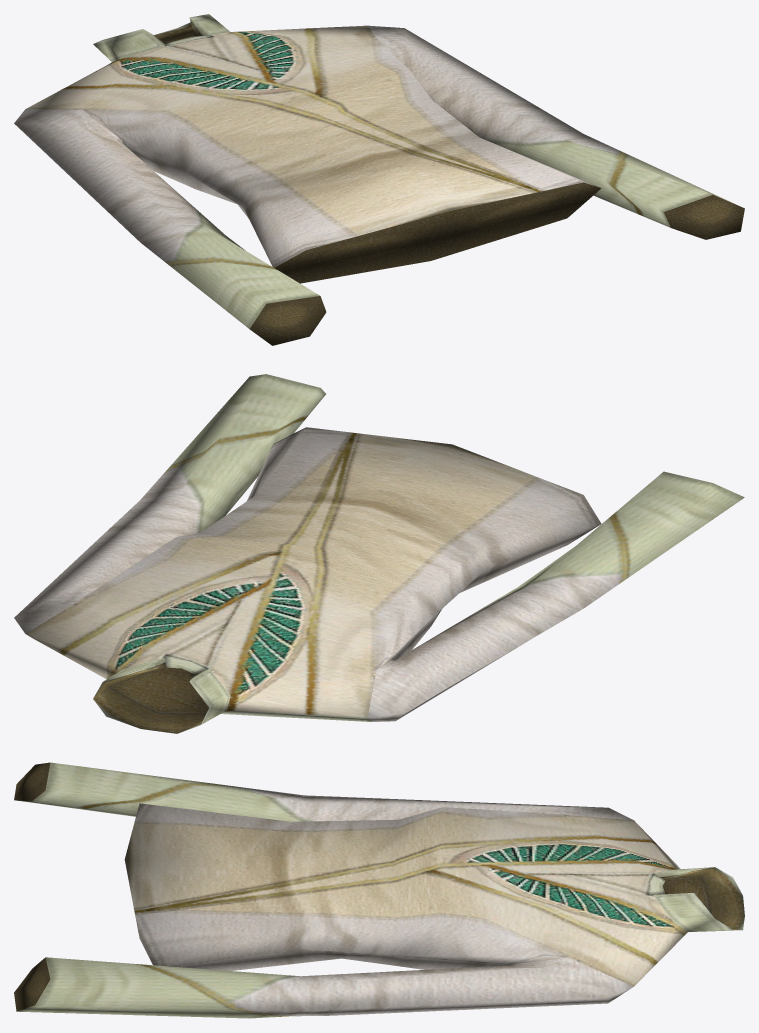
File: f_Torso2.glb
The picture shows the model from 3 angles, top to bottom: view 1: azimuth 30°, elevation 25°; view 2: azimuth 150°, elevation 25°; view 3: azimuth 270°, elevation 25°; orthographic projection.
Parts seen in each view (by area): view 1: Torso2; view 2: Torso2; view 3: Torso2.
Boxes of the visible parts, x1,y1,x2,y2 form: Torso2: [14, 14, 744, 345]; Torso2: [14, 374, 744, 733]; Torso2: [14, 762, 744, 1018].
Size of the model in its own units: 29.44 by 3.88 by 37.79.
Materials: 1 (1 with a texture image).
